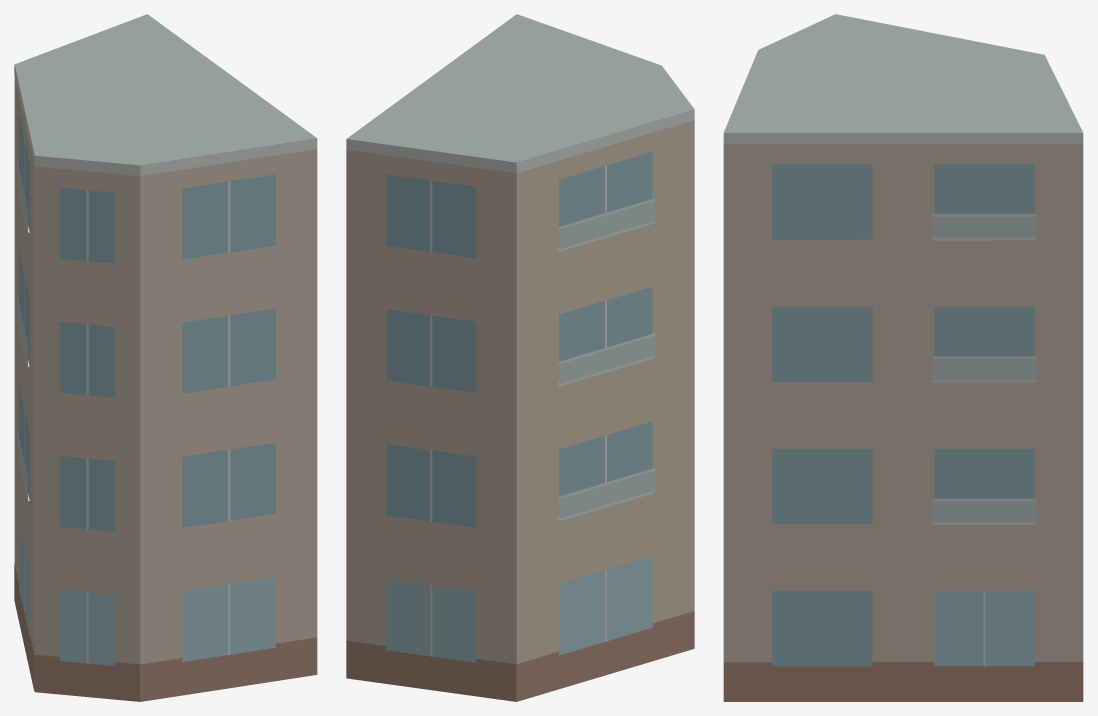
The model's file is survey-upis-32783123.glb.
3 views of the same model, side by side, from view 1: azimuth 30°, elevation 25°; view 2: azimuth 150°, elevation 25°; view 3: azimuth 270°, elevation 25° (orthographic). The views are drawn at different scales.
Visible parts, largest first — view 1: survey-upis-32783123.tmp; view 2: survey-upis-32783123.tmp; view 3: survey-upis-32783123.tmp.
Part boxes in pixels (x1=…): survey-upis-32783123.tmp: x1=14, y1=14, x2=317, y2=701; survey-upis-32783123.tmp: x1=346, y1=14, x2=694, y2=701; survey-upis-32783123.tmp: x1=723, y1=14, x2=1083, y2=701.
Bounding box in the file's own units: 5.51 × 12.2 × 7.01.
